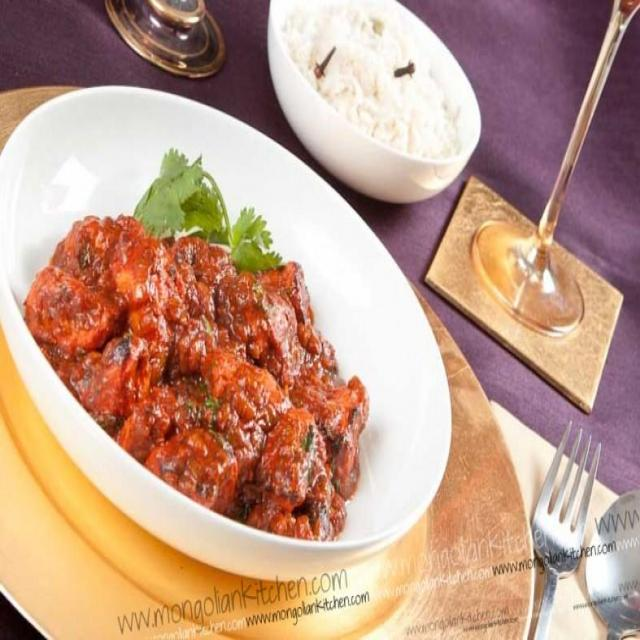chicken: (24, 207, 377, 532)
rice: (276, 6, 464, 164)
